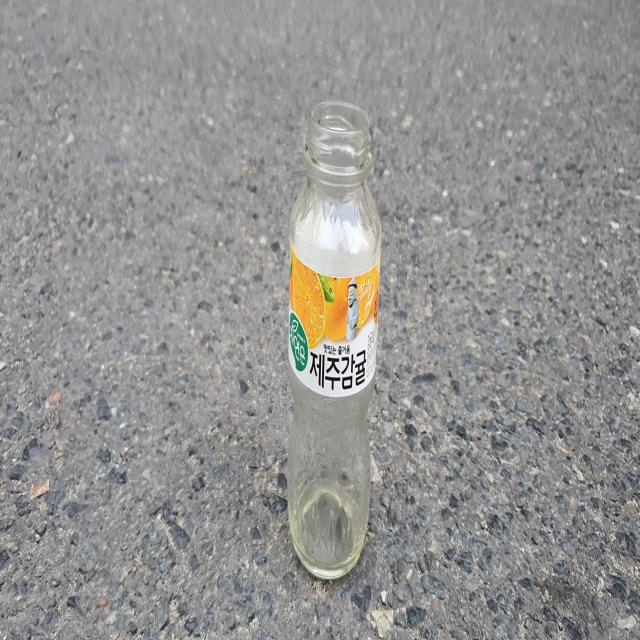glass: (288, 100, 382, 578)
